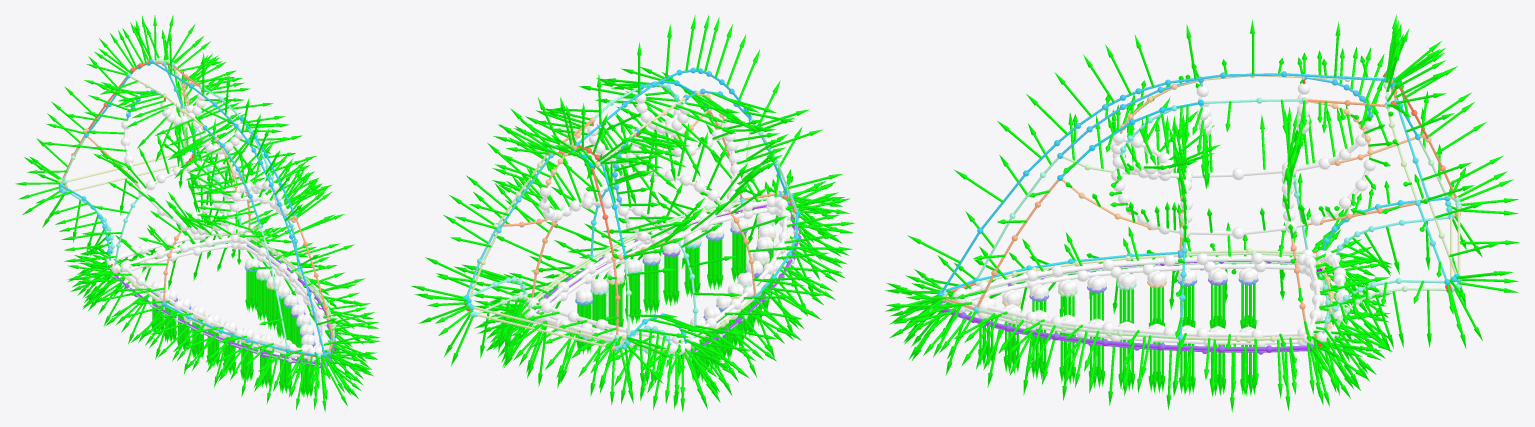
File: onshape_iron.gltf
The picture shows the model from 3 angles, left to right: view 1: azimuth 30°, elevation 25°; view 2: azimuth 150°, elevation 25°; view 3: azimuth 270°, elevation 25°; orthographic projection. The views are drawn at different scales.
Size of the model in its own units: 0.5351 by 0.6187 by 1.03.
